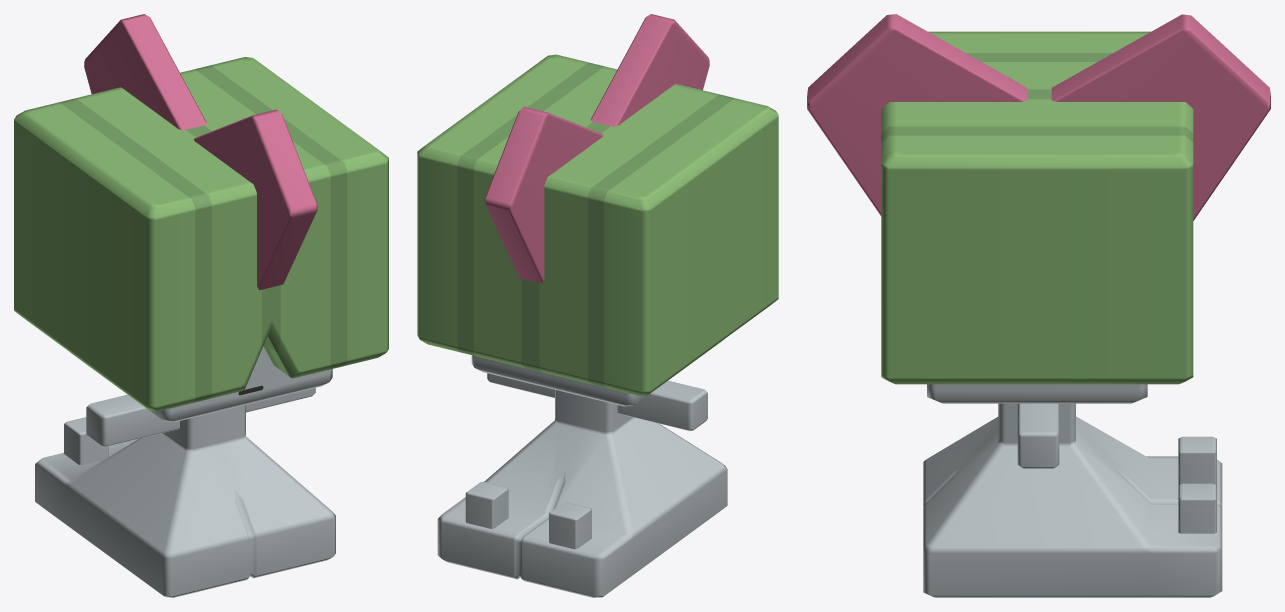
3 views of the same model, side by side, from view 1: azimuth 30°, elevation 25°; view 2: azimuth 150°, elevation 25°; view 3: azimuth 270°, elevation 25° (orthographic). The views are drawn at different scales.
Visible parts, largest first — view 1: model; view 2: model; view 3: model.
Boxes of the visible parts, x1,y1,x2,y2 form: model: [14, 14, 388, 597]; model: [417, 14, 778, 597]; model: [807, 14, 1270, 597].
Bounding box in the file's own units: 0.9254 × 1.74 × 1.38.
